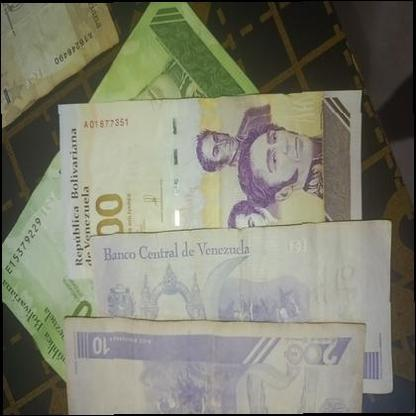fifty-front-vef: (0, 5, 262, 380)
five-front-vef: (0, 0, 118, 129)
ten-back-vef: (95, 222, 401, 393), (63, 315, 362, 416)
two_hundred-front-vef: (58, 89, 363, 279)
